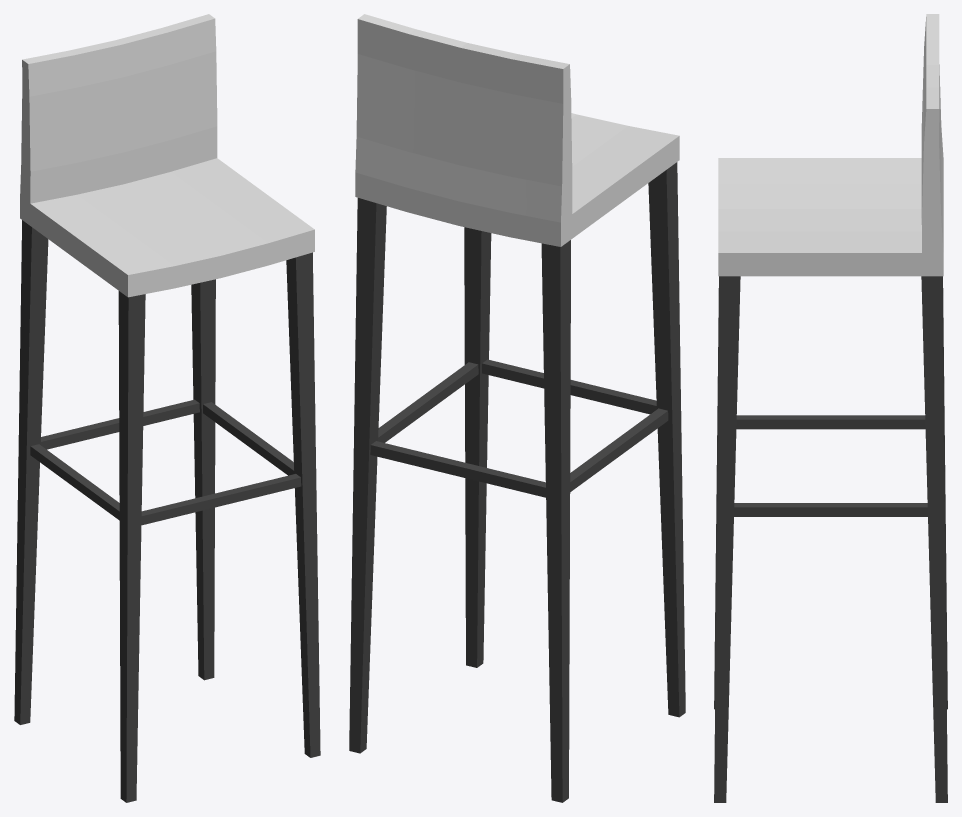
The model's file is Chair_09_C2.fbx.
3 renders of one model, left to right at view 1: azimuth 30°, elevation 25°; view 2: azimuth 150°, elevation 25°; view 3: azimuth 270°, elevation 25°, orthographic. The views are drawn at different scales.
Visible parts, largest first — view 1: Chair_09_C2; view 2: Chair_09_C2; view 3: Chair_09_C2.
Boxes of the visible parts, x1,y1,x2,y2 form: Chair_09_C2: (14,14,320,802); Chair_09_C2: (349,14,685,802); Chair_09_C2: (714,14,947,802).
Size of the model in its own units: 33.75 by 110 by 33.75.
